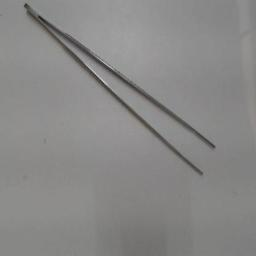DeBakey Dissector: (20, 4, 226, 192)
